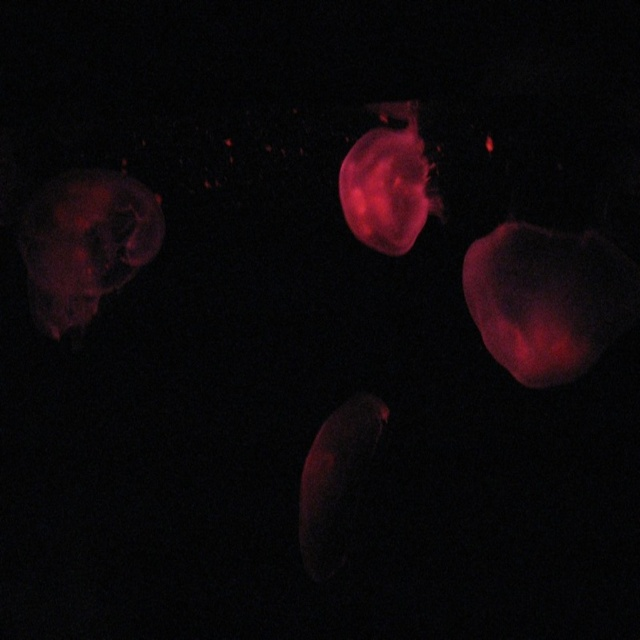Jellyfish: (25, 176, 169, 342), (460, 223, 595, 393), (333, 99, 443, 255)
